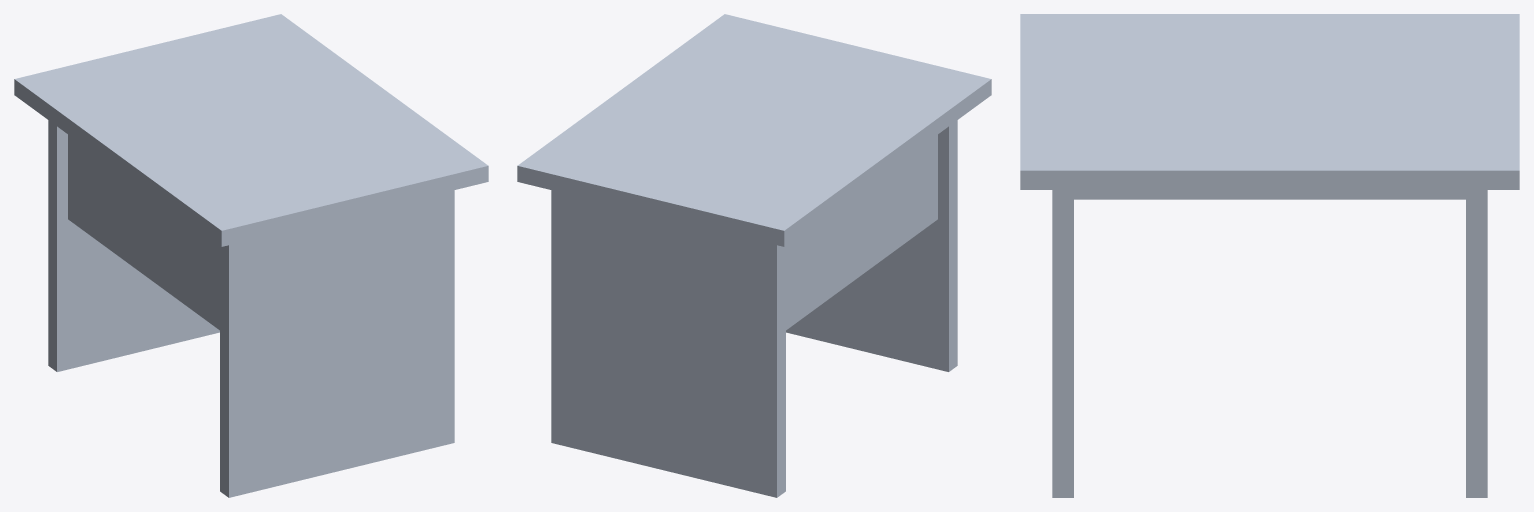
The model's file is model2_table.glb.
3 views of the same model, side by side, from view 1: azimuth 30°, elevation 25°; view 2: azimuth 150°, elevation 25°; view 3: azimuth 270°, elevation 25° (orthographic). The views are drawn at different scales.
Parts seen in each view (by area): view 1: Cube.001; view 2: Cube.001; view 3: Cube.001.
Boxes of the visible parts, x1,y1,x2,y2 form: Cube.001: (14,14,488,497); Cube.001: (517,14,991,497); Cube.001: (1020,14,1519,497).
Bounding box in the file's own units: 5.2 × 5.25 × 7.
